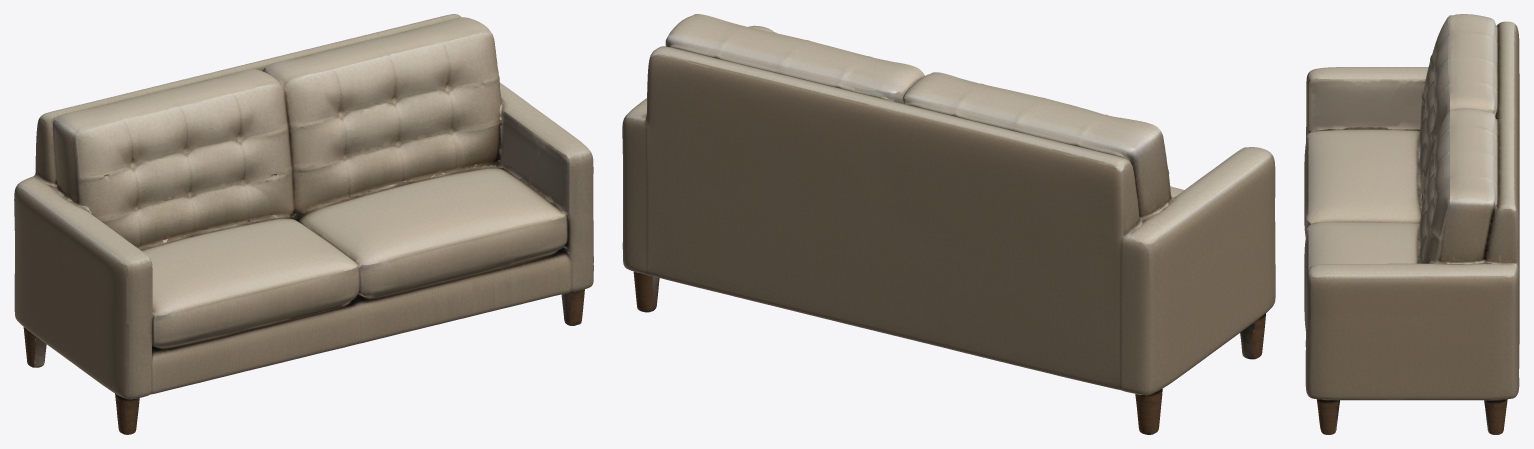
The model's file is couch__couch#2.glb.
3 views of the same model, side by side, from view 1: azimuth 30°, elevation 25°; view 2: azimuth 150°, elevation 25°; view 3: azimuth 270°, elevation 25° (orthographic). The views are drawn at different scales.
Visible parts, largest first — view 1: tmpsj07dln6.ply; view 2: tmpsj07dln6.ply; view 3: tmpsj07dln6.ply.
Boxes of the visible parts, x1,y1,x2,y2 form: tmpsj07dln6.ply: (14, 14, 593, 434); tmpsj07dln6.ply: (622, 14, 1275, 434); tmpsj07dln6.ply: (1304, 14, 1519, 434).
Size of the model in its own units: 1.99 by 1 by 0.853.
Materials: 1 (1 with a texture image).
